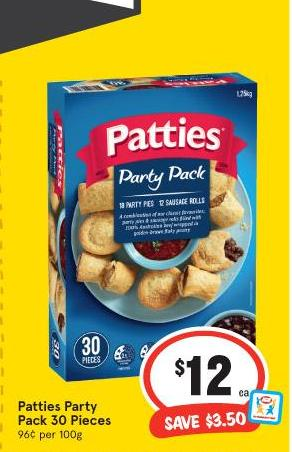description_block: (14, 391, 116, 429)
price_main: (152, 343, 258, 403)
product_image_block: (34, 58, 267, 348)
promo_text_block: (137, 406, 270, 440)
unit_price_block: (12, 428, 99, 444)
